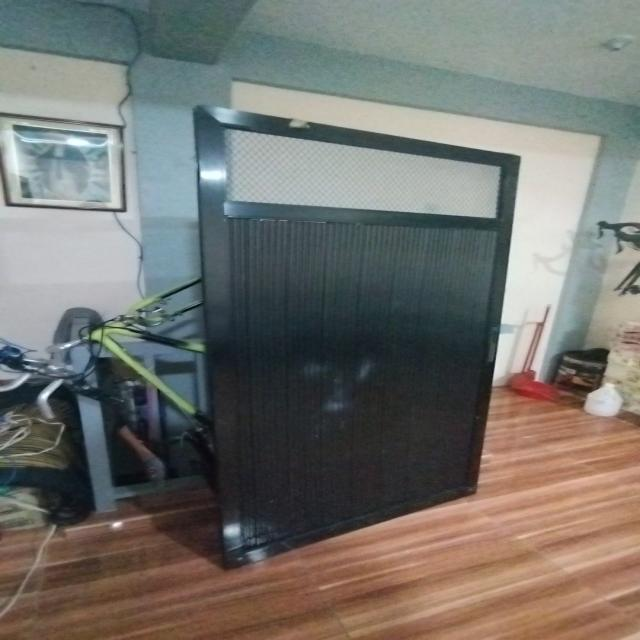door: (184, 97, 528, 563)
